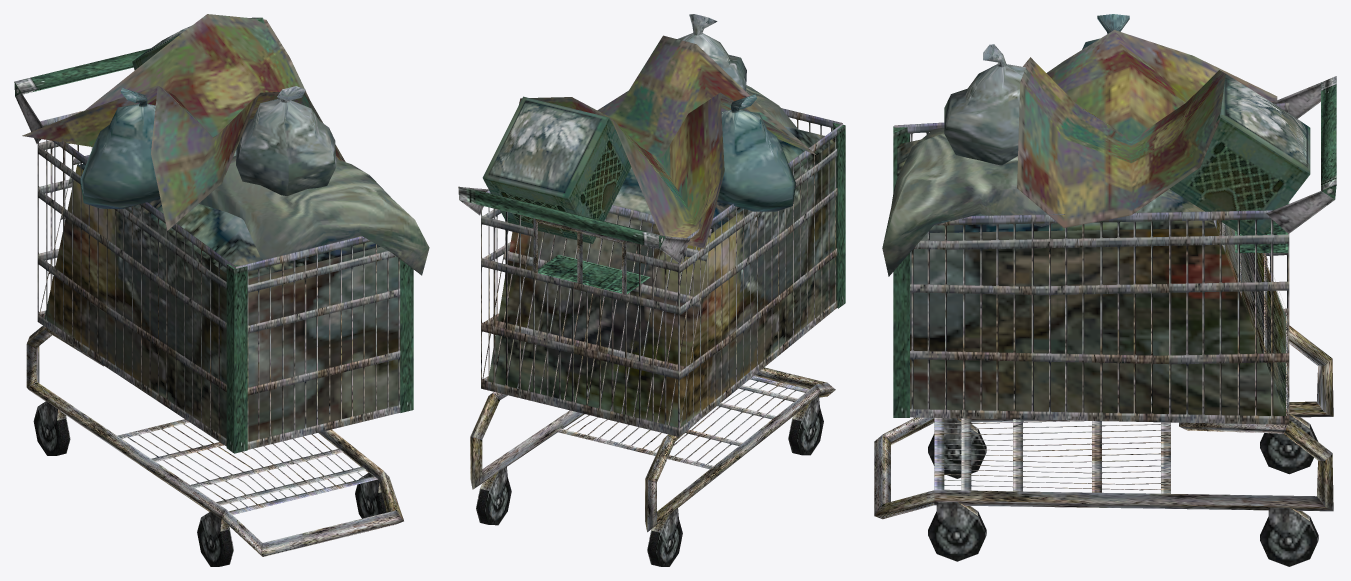
Rendered from shopping_cart_baglady.fbx.
3 views of the same model, side by side, from view 1: azimuth 30°, elevation 25°; view 2: azimuth 150°, elevation 25°; view 3: azimuth 270°, elevation 25° (orthographic). The views are drawn at different scales.
Visible parts, largest first — view 1: mesh_0, mesh_1; view 2: mesh_0, mesh_1; view 3: mesh_0, mesh_1.
Boxes of the visible parts, x1,y1,x2,y2 form: mesh_0: [22, 14, 429, 441]; mesh_1: [14, 48, 413, 566]; mesh_0: [482, 14, 835, 427]; mesh_1: [458, 108, 845, 566]; mesh_0: [882, 14, 1310, 415]; mesh_1: [874, 76, 1336, 566].
Bounding box in the file's own units: 77.55 × 133 × 117.
2 materials, 2 textured.
